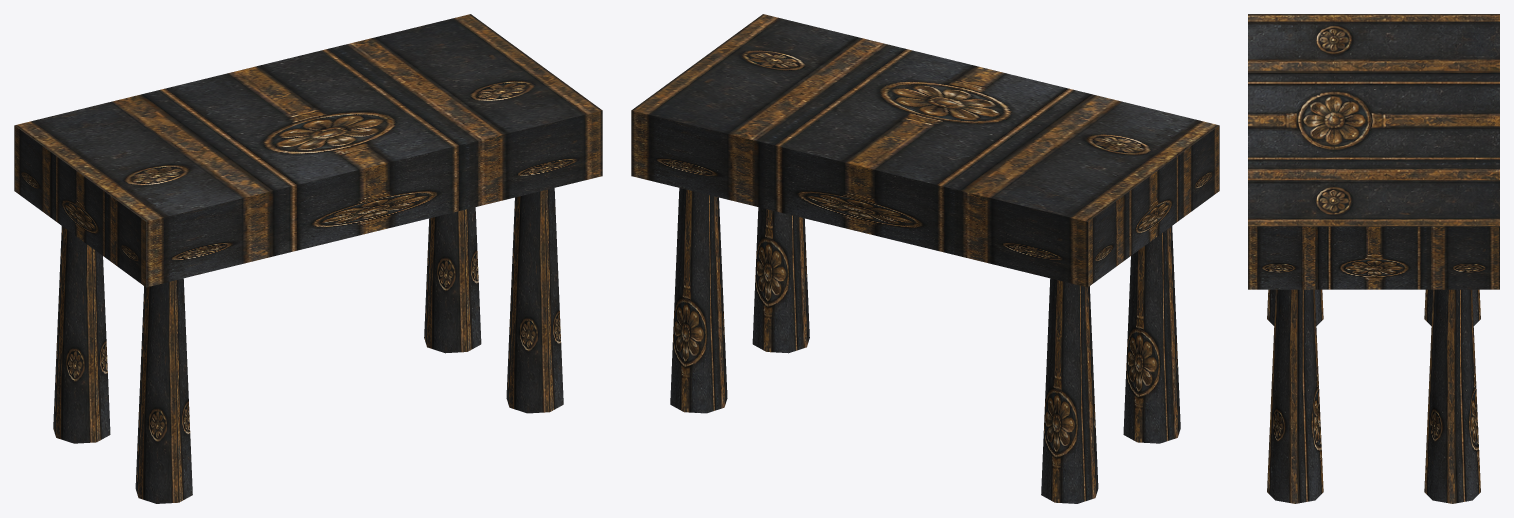
File: piano-stool.gltf
3 views of the same model, side by side, from view 1: azimuth 30°, elevation 25°; view 2: azimuth 150°, elevation 25°; view 3: azimuth 270°, elevation 25° (orthographic). The views are drawn at different scales.
Visible parts, largest first — view 1: kit:0:furniture:mahogany:; view 2: kit:0:furniture:mahogany:; view 3: kit:0:furniture:mahogany:.
Boxes of the visible parts, x1=… form: kit:0:furniture:mahogany:: x1=14, y1=14, x2=602, y2=503; kit:0:furniture:mahogany:: x1=631, y1=14, x2=1219, y2=503; kit:0:furniture:mahogany:: x1=1248, y1=14, x2=1499, y2=503.
Bounding box in the file's own units: 0.8 × 0.5 × 0.4.
1 material, 1 textured.
